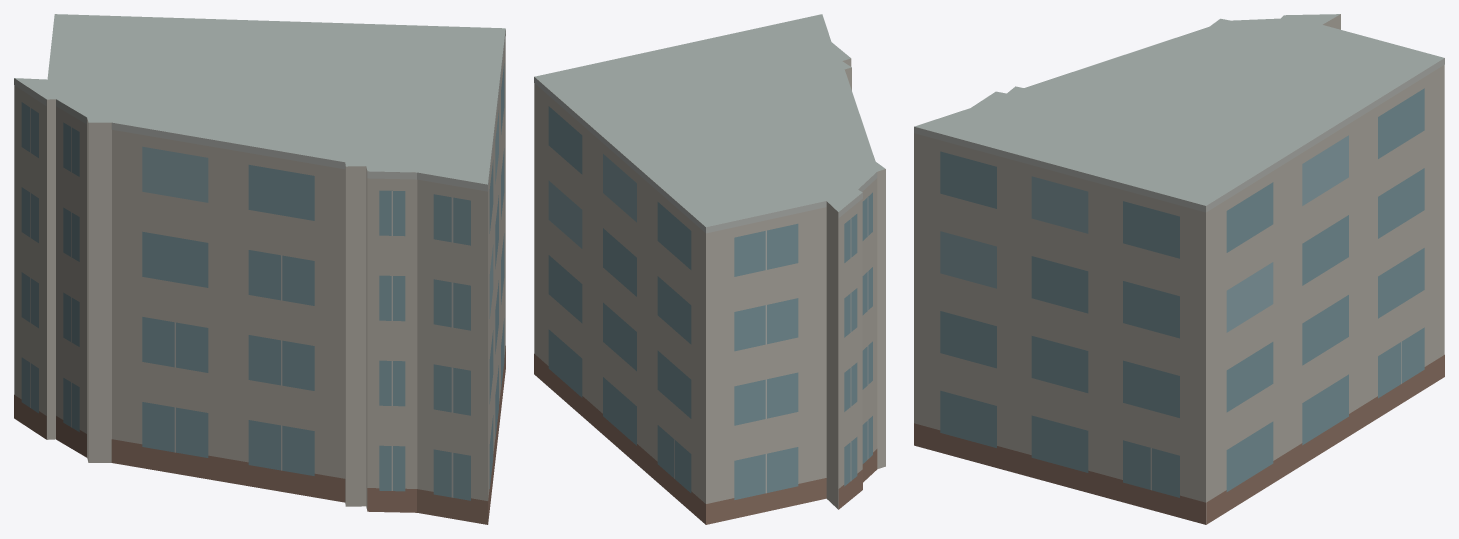
The model's file is survey-upis-33043563.glb.
3 views of the same model, side by side, from view 1: azimuth 30°, elevation 25°; view 2: azimuth 150°, elevation 25°; view 3: azimuth 270°, elevation 25° (orthographic). The views are drawn at different scales.
Visible parts, largest first — view 1: survey-upis-33043563.tmp; view 2: survey-upis-33043563.tmp; view 3: survey-upis-33043563.tmp.
Boxes of the visible parts, box(x1,y1,x2,y2) form: survey-upis-33043563.tmp: box(14, 14, 505, 524); survey-upis-33043563.tmp: box(534, 14, 885, 524); survey-upis-33043563.tmp: box(914, 14, 1444, 524).
Bounding box in the file's own units: 15.24 × 11.8 × 17.8.
